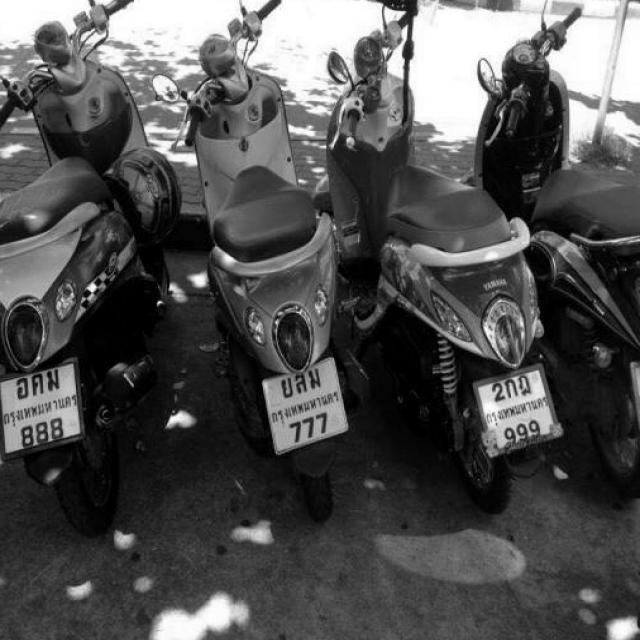letters: (306, 370, 322, 392), (19, 424, 35, 445), (15, 374, 28, 399), (48, 417, 62, 439), (33, 372, 45, 397), (35, 421, 48, 444), (46, 369, 60, 390), (281, 377, 293, 400), (520, 373, 531, 396), (491, 382, 503, 403), (304, 415, 314, 439), (291, 421, 302, 442), (317, 412, 328, 433), (528, 419, 540, 438), (507, 379, 516, 400), (517, 425, 527, 441), (298, 375, 306, 393), (507, 428, 514, 447)
license-plate: (261, 358, 349, 455), (0, 358, 82, 460), (474, 366, 559, 456)
province: (2, 391, 78, 429), (270, 388, 342, 426), (481, 394, 549, 427)
